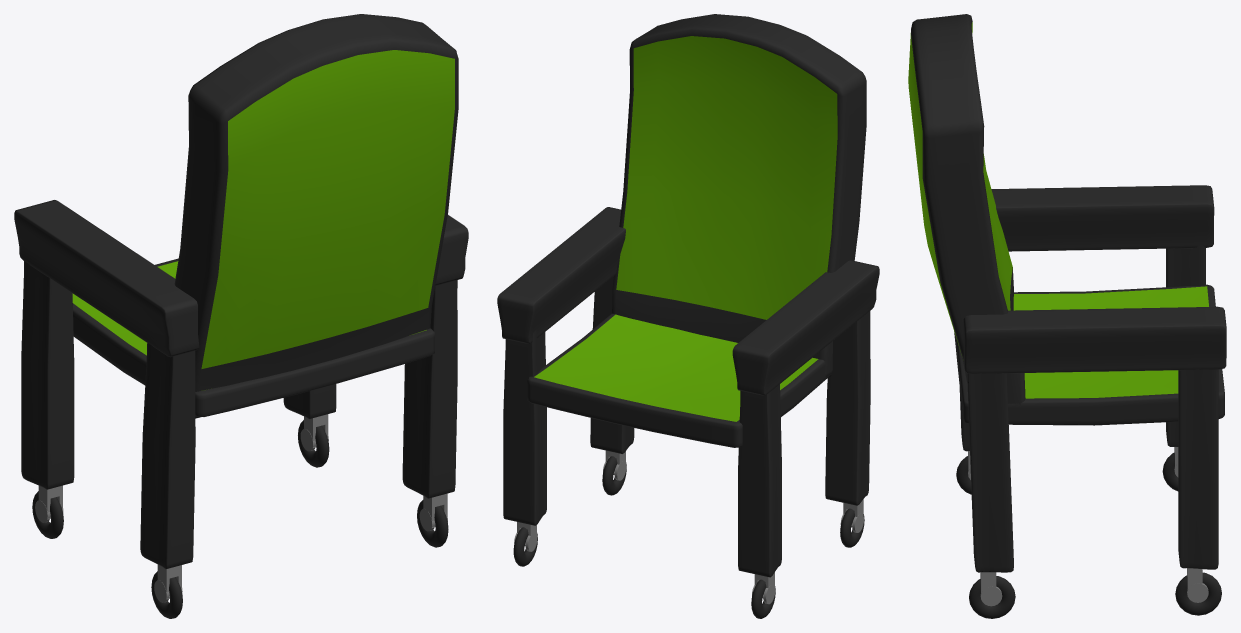
File: Office Chair .fbx
The picture shows the model from 3 angles, left to right: view 1: azimuth 30°, elevation 25°; view 2: azimuth 150°, elevation 25°; view 3: azimuth 270°, elevation 25°; orthographic projection. The views are drawn at different scales.
Visible parts, largest first — view 1: Sofa_4, Sofa_5, Sofa_29, Sofa_26, Sofa_3, Sofa_28, Drugery_table_hio2 (×4), Sofa_2, Sofa_27; view 2: Sofa_4, Sofa_3, Sofa_5, Sofa_2, Sofa_26, Sofa_29, Sofa_27, Drugery_table_hio2 (×4), Sofa_28; view 3: Sofa_4, Sofa_2, Sofa_5, Sofa_3, Sofa_27, Sofa_28, Drugery_table_hio2 (×2), Sofa_26.
Boxes of the visible parts, x1,y1,x2,y2 form: Sofa_4: (174, 14, 458, 418); Sofa_5: (14, 200, 199, 357); Sofa_29: (140, 343, 195, 569); Sofa_26: (21, 261, 74, 489); Sofa_3: (72, 258, 434, 416); Sofa_28: (402, 280, 457, 498); Drugery_table_hio2 (×4): (32, 420, 448, 618); Sofa_2: (435, 215, 468, 285); Sofa_27: (283, 384, 336, 418); Sofa_4: (612, 14, 866, 377); Sofa_3: (527, 313, 831, 447); Sofa_5: (732, 260, 879, 395); Sofa_2: (497, 207, 625, 343); Sofa_26: (738, 384, 781, 577); Sofa_29: (825, 311, 870, 505); Sofa_27: (503, 330, 546, 525); Drugery_table_hio2 (×4): (513, 456, 864, 618); Sofa_28: (590, 276, 634, 453); Sofa_4: (908, 14, 1025, 418); Sofa_2: (963, 306, 1226, 373); Sofa_5: (991, 185, 1214, 251); Sofa_3: (954, 284, 1224, 425); Sofa_27: (1178, 369, 1218, 569); Sofa_28: (967, 373, 1013, 572); Drugery_table_hio2 (×2): (969, 572, 1221, 618); Sofa_26: (1166, 245, 1205, 446).
Bounding box in the file's own units: 9.12 × 15.28 × 8.44.
